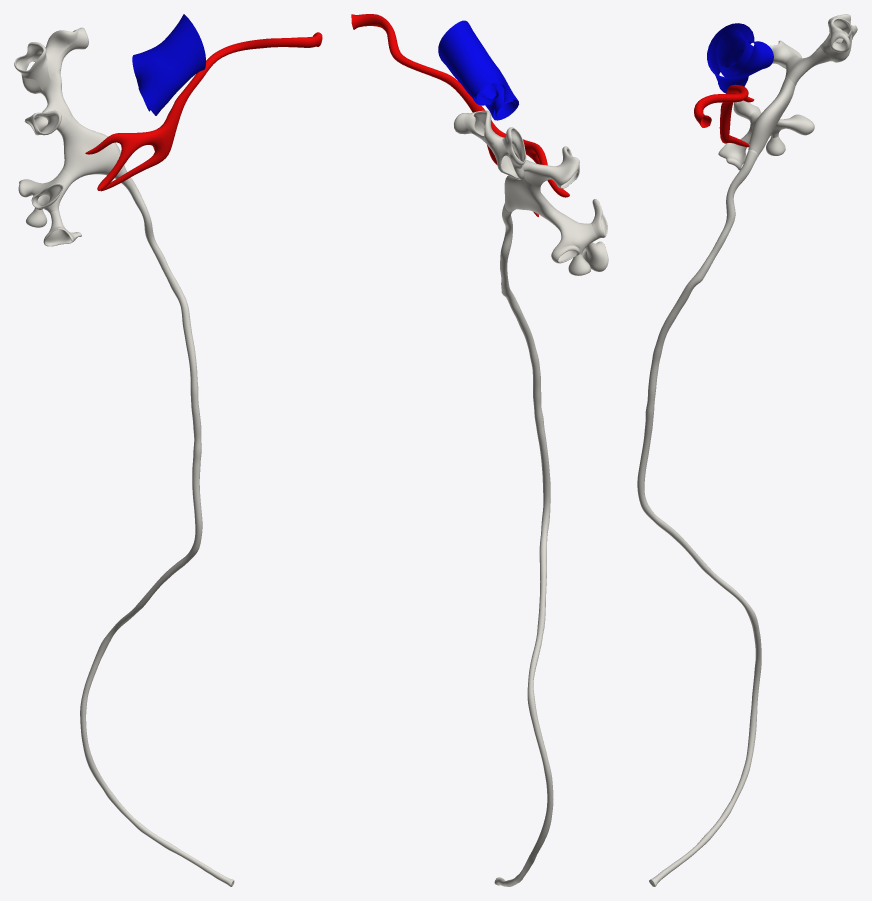
File: VH_F_Kidney_R_Landmarks.fbx
3 views of the same model, side by side, from view 1: azimuth 30°, elevation 25°; view 2: azimuth 150°, elevation 25°; view 3: azimuth 270°, elevation 25° (orthographic). The views are drawn at different scales.
Visible parts, largest first — view 1: VH_F_kidney_R_landmark_right_ureter, VH_F_kidney_R_landmark_minor_calyxes, VH_F_kidney_R_landmark_renal_artery, VH_F_kidney_R_landmark_renal_vein, VH_F_kidney_R_landmark_renal_pelvis, VH_F_kidney_R_landmark_major_calyxes; view 2: VH_F_kidney_R_landmark_right_ureter, VH_F_kidney_R_landmark_minor_calyxes, VH_F_kidney_R_landmark_renal_vein, VH_F_kidney_R_landmark_renal_artery, VH_F_kidney_R_landmark_major_calyxes, VH_F_kidney_R_landmark_renal_pelvis; view 3: VH_F_kidney_R_landmark_right_ureter, VH_F_kidney_R_landmark_minor_calyxes, VH_F_kidney_R_landmark_renal_vein, VH_F_kidney_R_landmark_renal_artery, VH_F_kidney_R_landmark_renal_pelvis, VH_F_kidney_R_landmark_major_calyxes.
Part boxes in pixels (x1,y1,x2,y2): VH_F_kidney_R_landmark_right_ureter: [80, 177, 234, 886]; VH_F_kidney_R_landmark_minor_calyxes: [14, 27, 88, 246]; VH_F_kidney_R_landmark_renal_artery: [85, 32, 322, 191]; VH_F_kidney_R_landmark_renal_vein: [132, 14, 205, 115]; VH_F_kidney_R_landmark_renal_pelvis: [61, 117, 126, 181]; VH_F_kidney_R_landmark_major_calyxes: [31, 73, 73, 212]; VH_F_kidney_R_landmark_right_ureter: [494, 203, 553, 886]; VH_F_kidney_R_landmark_minor_calyxes: [454, 110, 608, 275]; VH_F_kidney_R_landmark_renal_vein: [438, 20, 518, 120]; VH_F_kidney_R_landmark_renal_artery: [351, 14, 569, 216]; VH_F_kidney_R_landmark_major_calyxes: [506, 149, 598, 254]; VH_F_kidney_R_landmark_renal_pelvis: [504, 175, 556, 220]; VH_F_kidney_R_landmark_right_ureter: [637, 150, 761, 886]; VH_F_kidney_R_landmark_minor_calyxes: [718, 14, 857, 170]; VH_F_kidney_R_landmark_renal_vein: [707, 23, 773, 93]; VH_F_kidney_R_landmark_renal_artery: [694, 84, 754, 147]; VH_F_kidney_R_landmark_renal_pelvis: [748, 77, 795, 156]; VH_F_kidney_R_landmark_major_calyxes: [747, 45, 830, 138].
Size of the model in its own units: 8.95 by 27.28 by 6.32.
